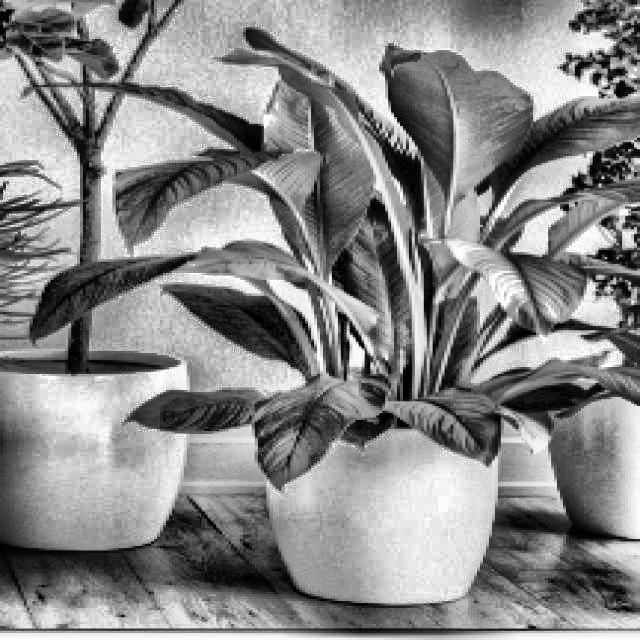plants: (192, 60, 574, 610)
